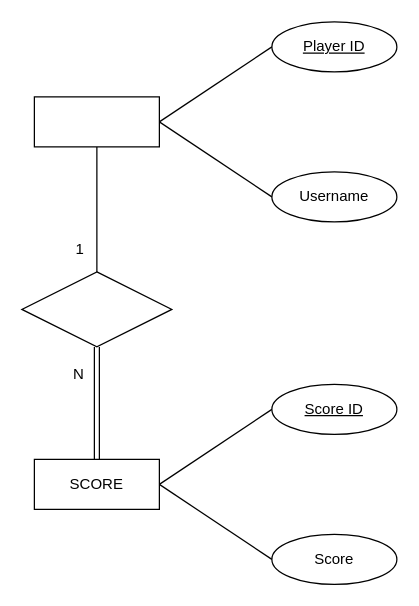
This 419x606 diagram has some shape labels left out. The box of each missing label's shape, as (x1, y1, x2, y2) in pixels:
PLAYER: (33, 96, 159, 147)
TIENE: (21, 271, 172, 347)
